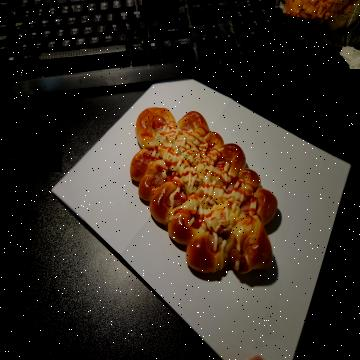pizza_bread: (130, 107, 277, 282)
